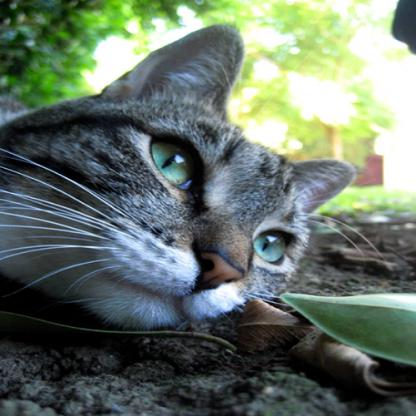cat: (0, 24, 357, 330)
